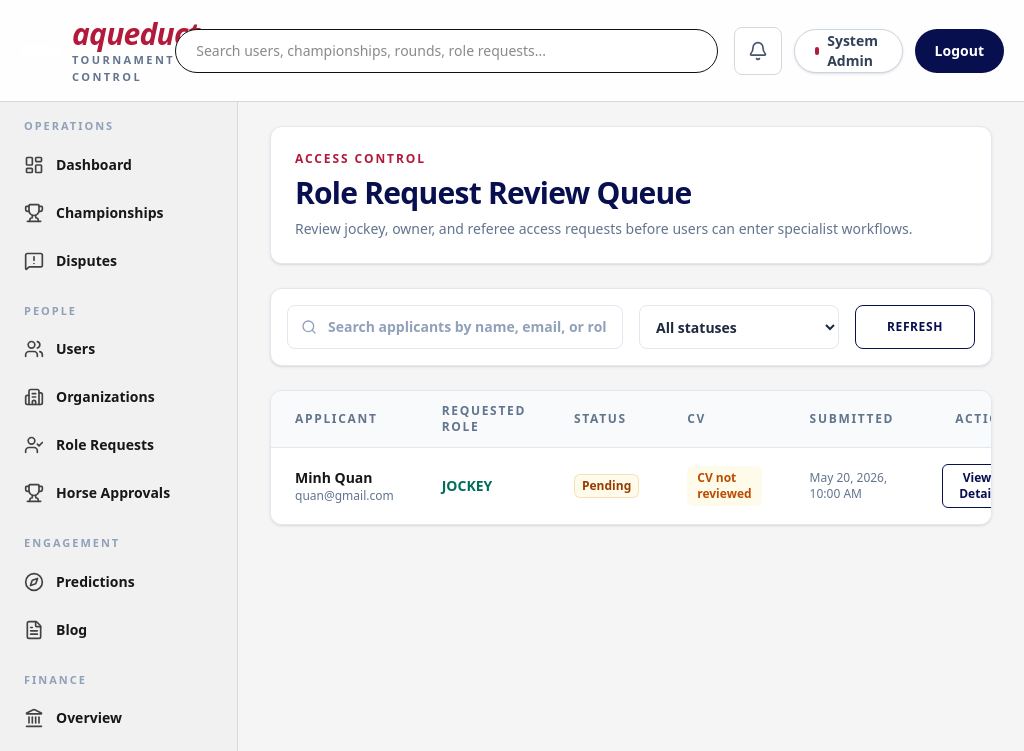
Test: AdminRoleRequestsWorkspace › renders the queue and opens request details
Check: the text "Minh Quan" is shown, box [295,468,372,487]
Click the button "View Detail" at (977, 486), box [942,464,1012,508]
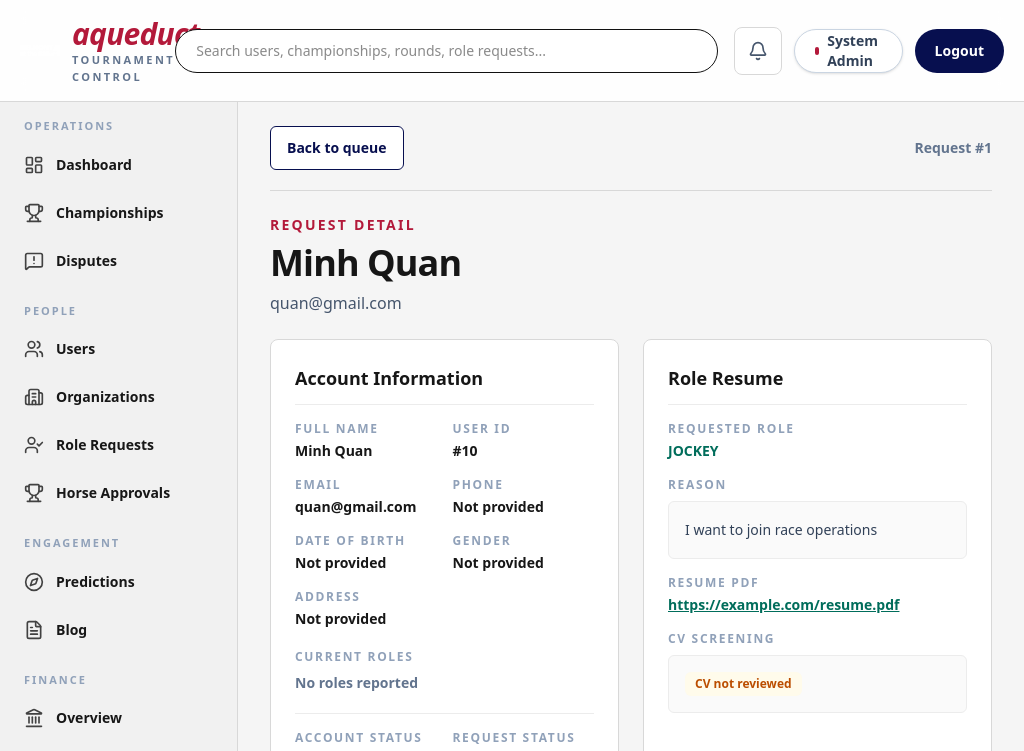
Check: the heading "Minh Quan" is shown, box [270,238,461,287]
Check: the text "I want to join race operations" is shown, box [668,501,967,559]
